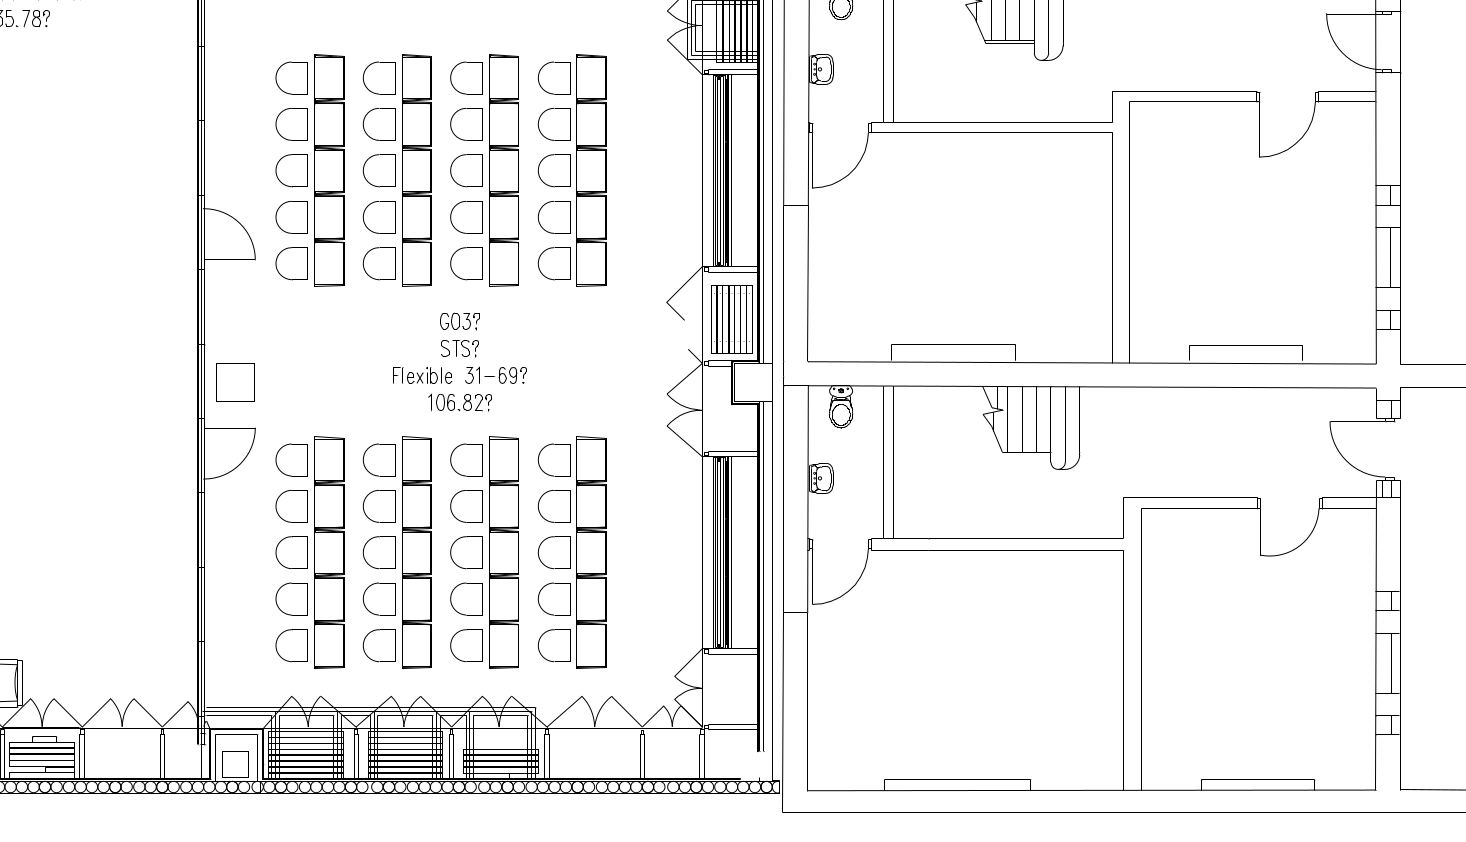door: (642, 360, 703, 464), (810, 130, 872, 195), (1253, 99, 1315, 164), (1317, 413, 1379, 478), (1259, 507, 1321, 572), (810, 548, 872, 613), (1313, 10, 1375, 75), (204, 423, 266, 488), (206, 202, 260, 268)
